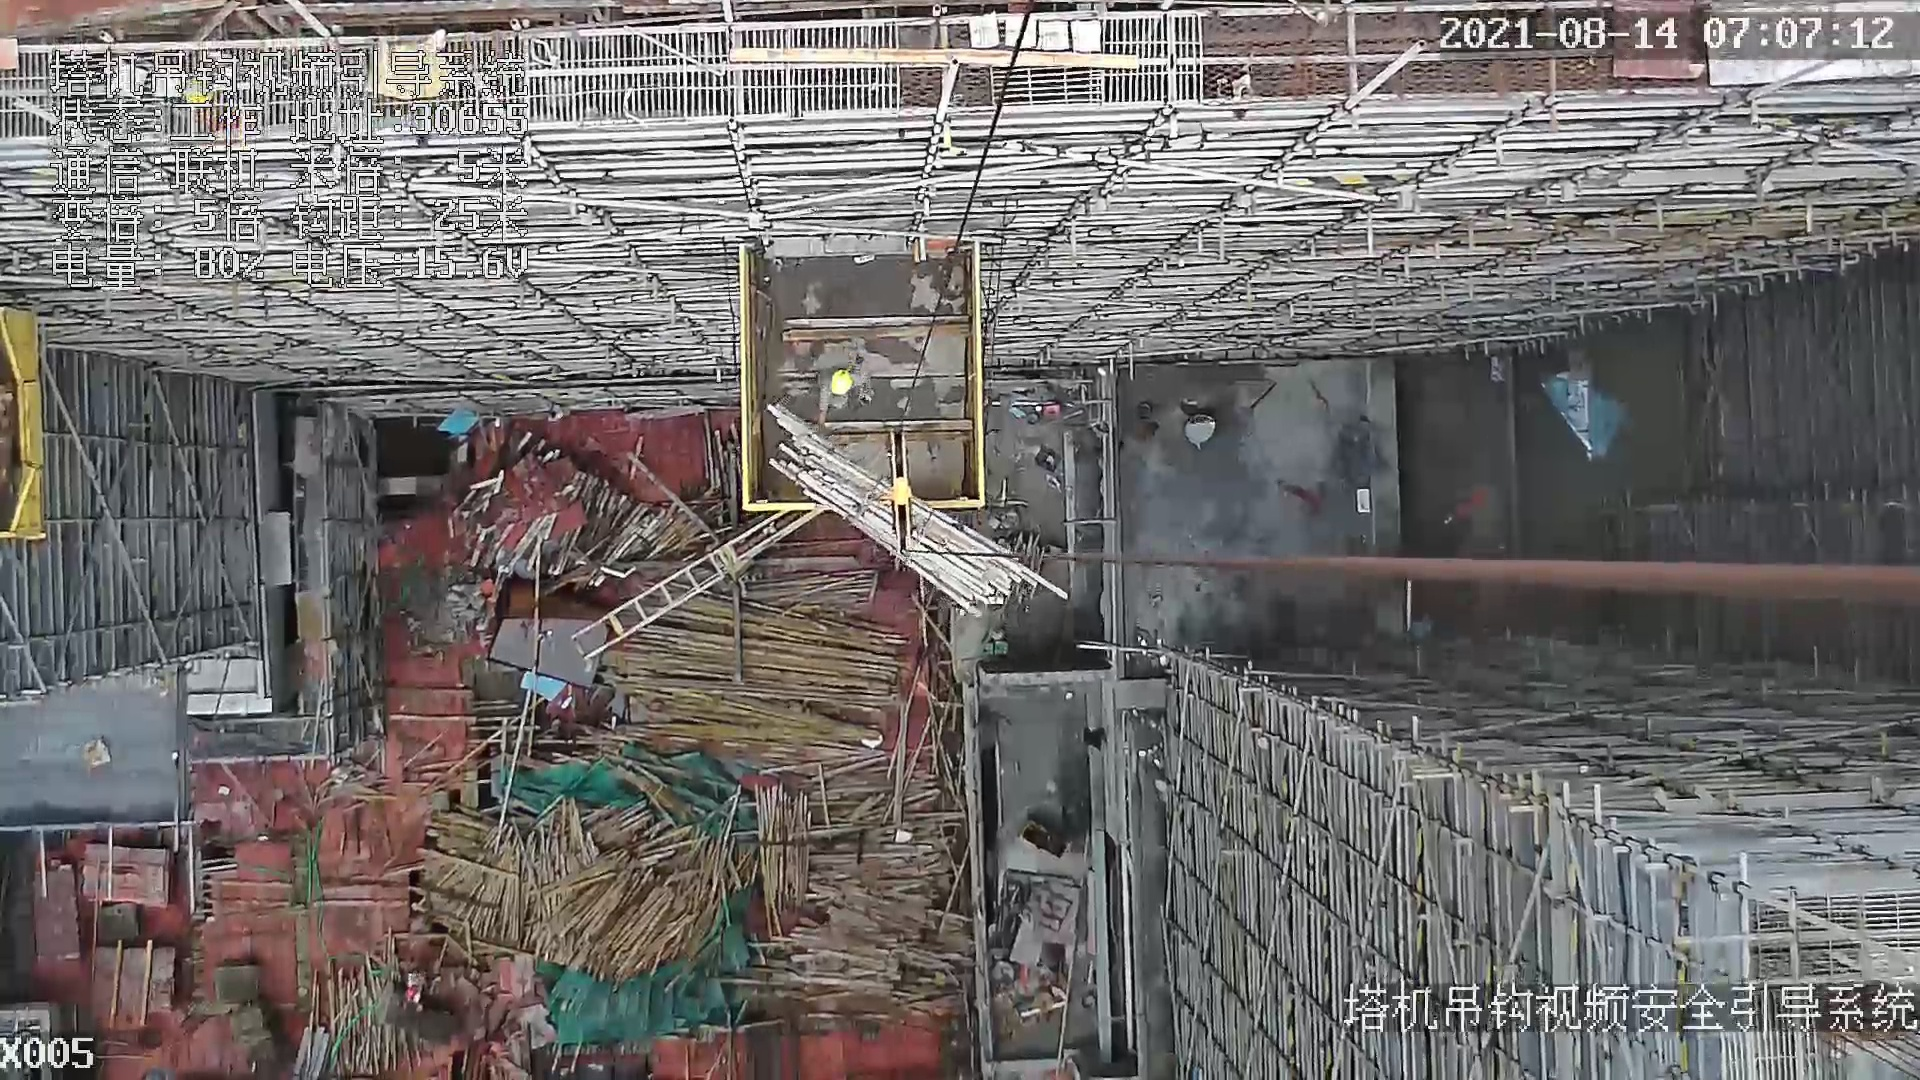helmet: (830, 369, 855, 397)
hook: (883, 424, 926, 562)
person: (822, 349, 863, 419)
